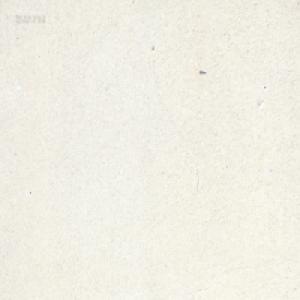Nail: (199, 69, 206, 74)
